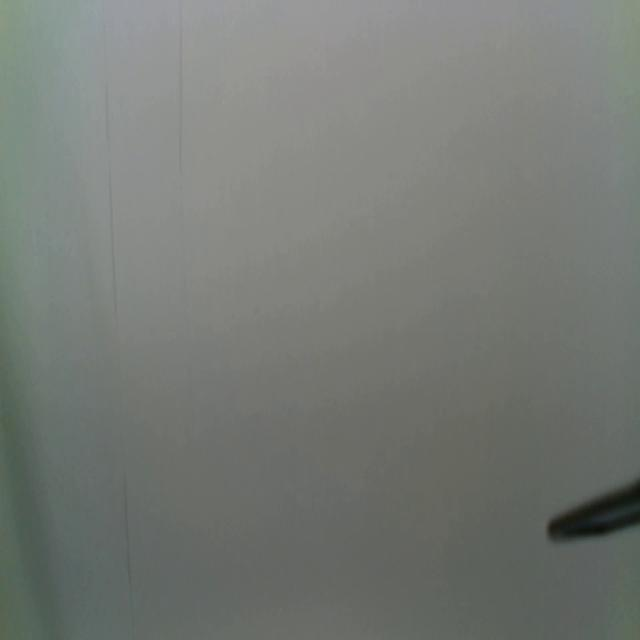crease: (104, 76, 120, 324), (122, 469, 134, 613), (177, 3, 185, 200)
